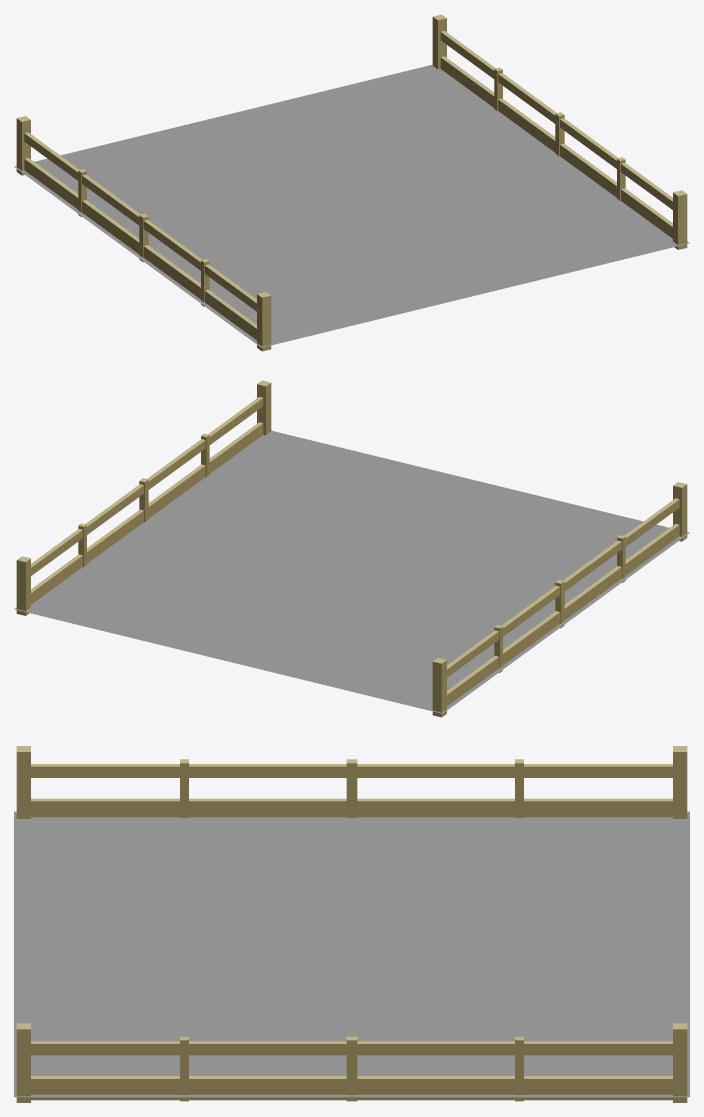
The model's file is tile_for_home_1x1_017.fbx.
3 views of the same model, one above another, from view 1: azimuth 30°, elevation 25°; view 2: azimuth 150°, elevation 25°; view 3: azimuth 270°, elevation 25° (orthographic). The views are drawn at different scales.
Parts seen in each view (by area): view 1: tile_for_home_1x1_017; view 2: tile_for_home_1x1_017; view 3: tile_for_home_1x1_017.
Boxes of the visible parts, left/top/right/bottom form: tile_for_home_1x1_017: left=14, top=14, right=689, bottom=351; tile_for_home_1x1_017: left=14, top=380, right=689, bottom=717; tile_for_home_1x1_017: left=14, top=746, right=689, bottom=1102.
Bounding box in the file's own units: 800 × 95.9 × 800.
